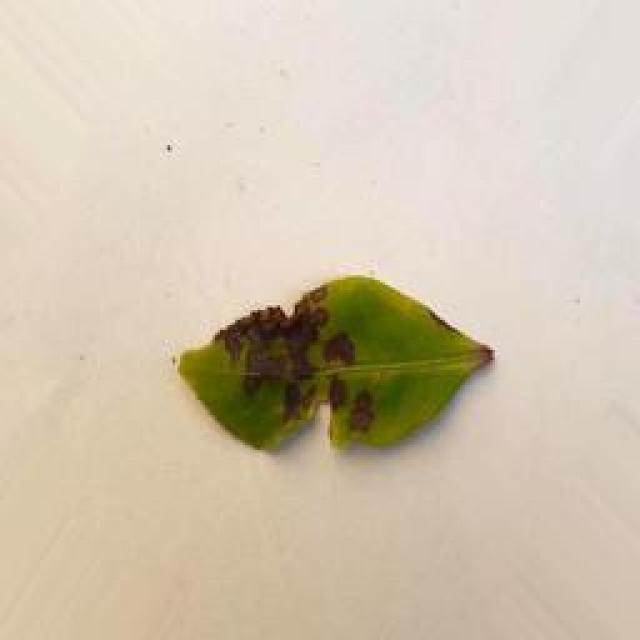Helopeltis: (164, 274, 501, 454)
